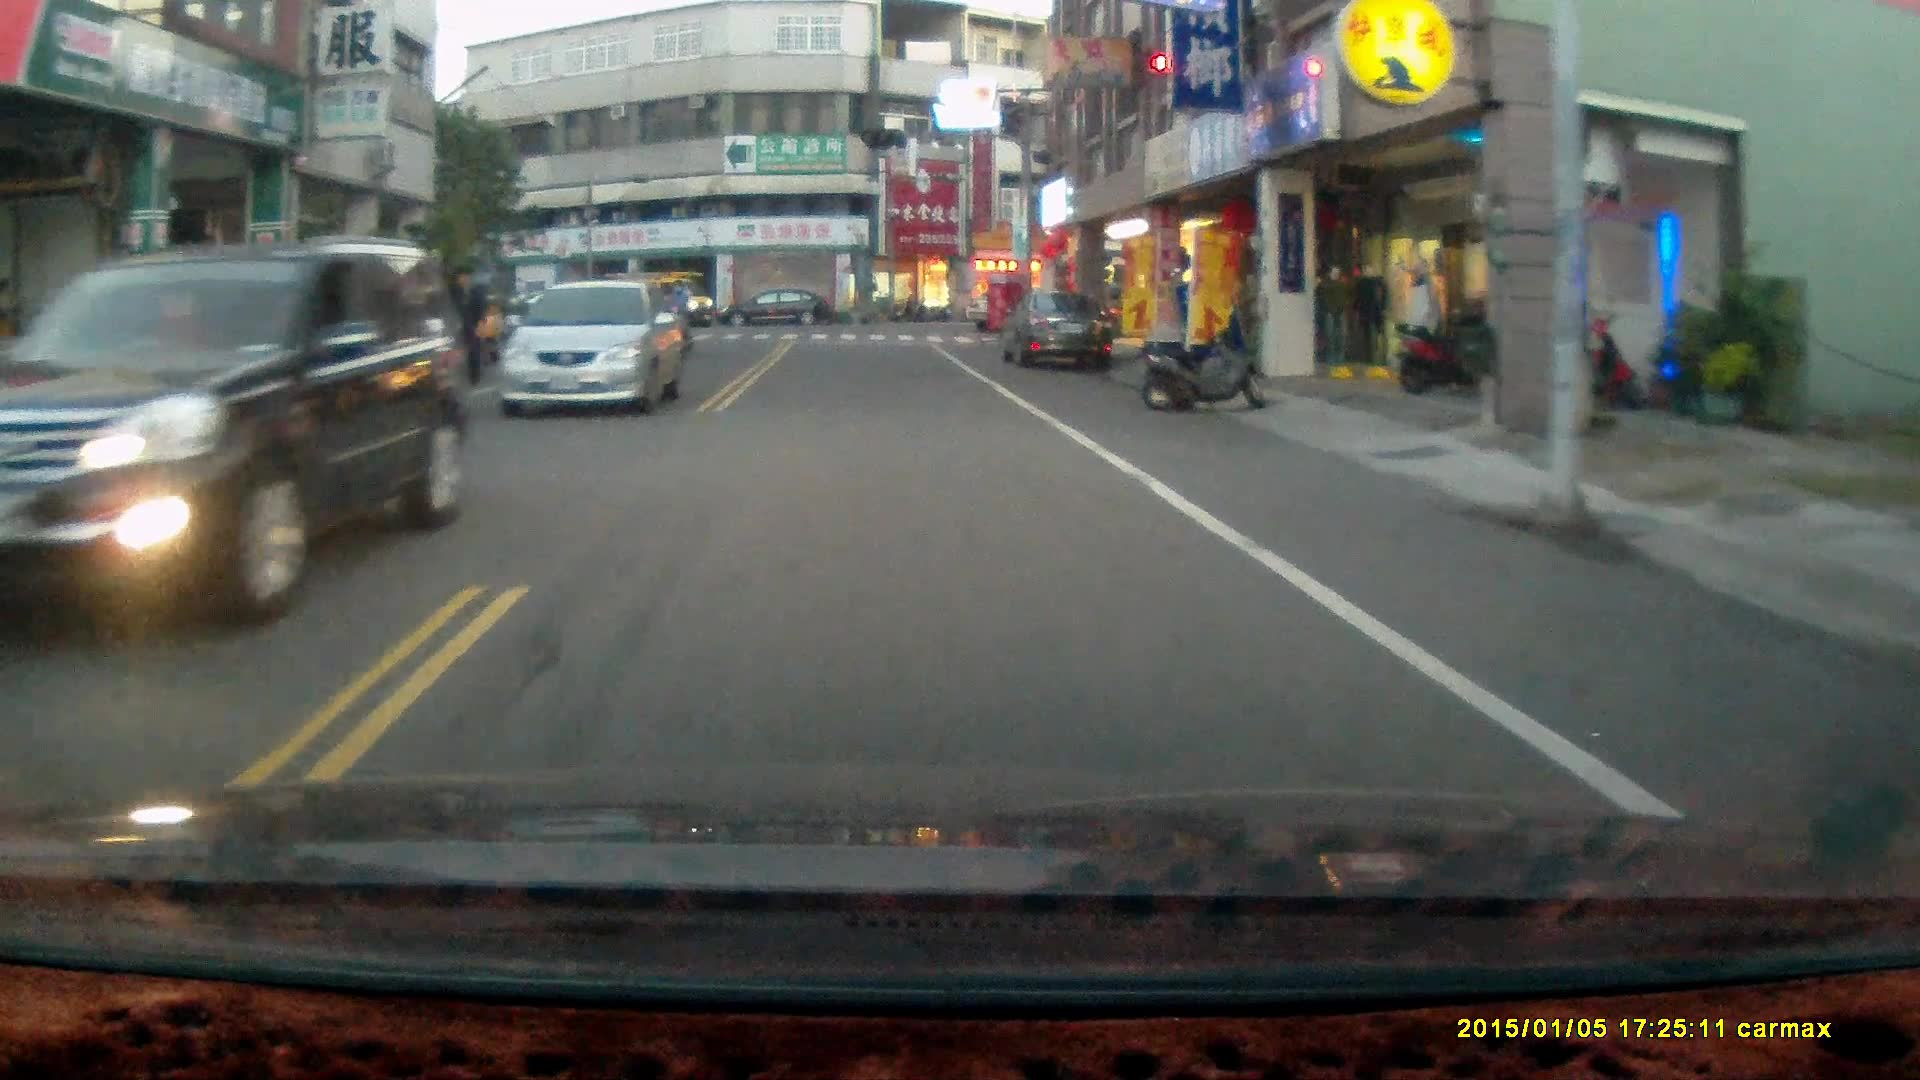pedestrian: (446, 263, 489, 389)
rider: (653, 279, 690, 370)
vehicle: (2, 239, 471, 664), (505, 281, 689, 419), (1000, 288, 1116, 377), (715, 286, 835, 332)
